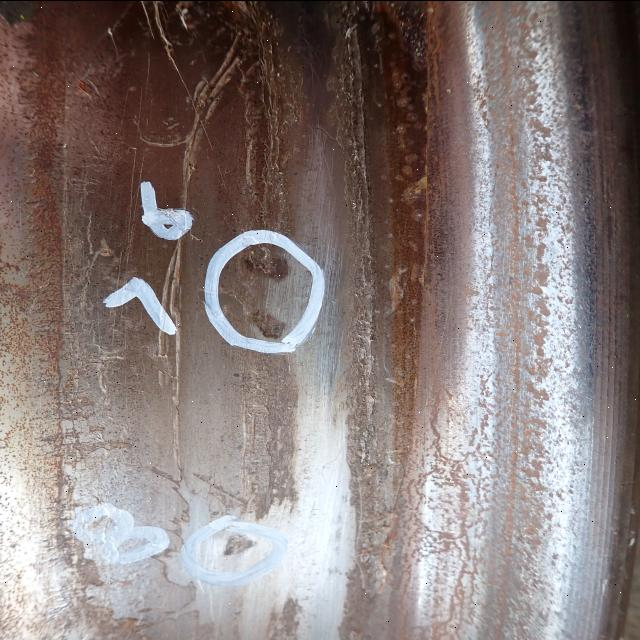geshang: (242, 250, 294, 285), (215, 534, 255, 566)
